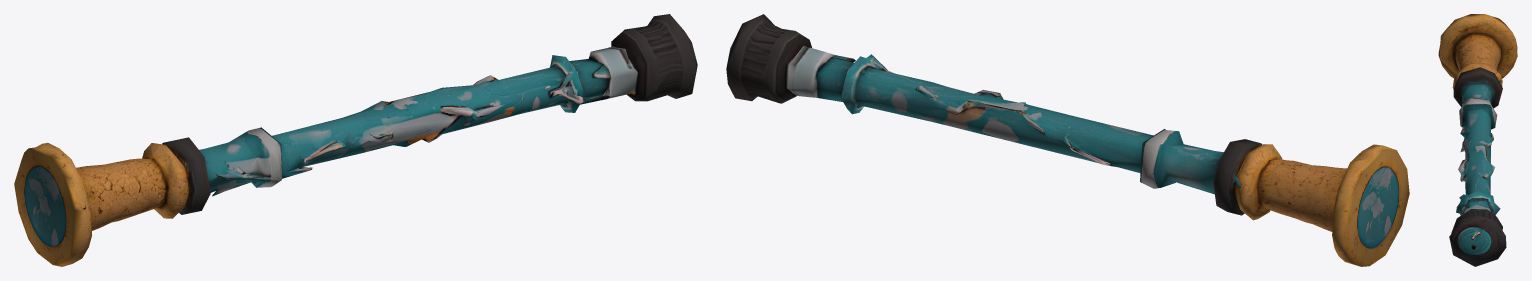
The model's file is weapon_hiking_stick_tertiary_1500_raw.glb.
The picture shows the model from 3 angles, left to right: view 1: azimuth 30°, elevation 25°; view 2: azimuth 150°, elevation 25°; view 3: azimuth 270°, elevation 25°; orthographic projection. The views are drawn at different scales.
Parts seen in each view (by area): view 1: tripo_node_039bff10-5d72-4fba-b303-30e00fb167af; view 2: tripo_node_039bff10-5d72-4fba-b303-30e00fb167af; view 3: tripo_node_039bff10-5d72-4fba-b303-30e00fb167af.
Boxes of the visible parts, <box> form: tripo_node_039bff10-5d72-4fba-b303-30e00fb167af: <box>14,14,697,266</box>; tripo_node_039bff10-5d72-4fba-b303-30e00fb167af: <box>726,14,1409,266</box>; tripo_node_039bff10-5d72-4fba-b303-30e00fb167af: <box>1438,14,1517,266</box>.
Bounding box in the file's own units: 0.9781 × 0.1581 × 0.1662.
1 material, 1 textured.
